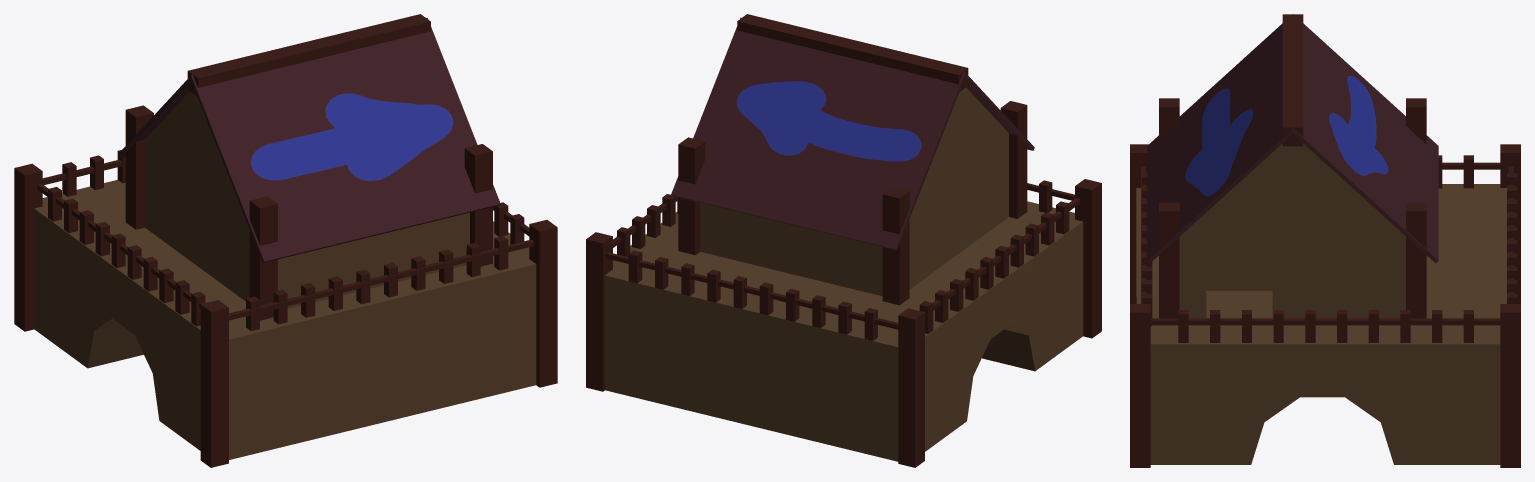
The model's file is Assembler_level_2.fbx.
The picture shows the model from 3 angles, left to right: view 1: azimuth 30°, elevation 25°; view 2: azimuth 150°, elevation 25°; view 3: azimuth 270°, elevation 25°; orthographic projection. The views are drawn at different scales.
Visible parts, largest first — view 1: Cube.006, Plane.001, Cube, Cube.005, Cube.008, Cube.007, Cube.010, Cube.004, Cube.002, Cube.054, Cube.003, Plane.002 (+1 smaller); view 2: Cube.006, Plane.002, Cube, Cube.005, Cube.010, Cube.008, Cube.009, Cube.002, Cube.001, Cube.004, Cube.053, Plane.001 (+1 smaller); view 3: Cube.006, Cube, Plane.002, Plane.001, Cube.007, Cube.009, Cube.005, Cube.003, Cube.001, Cube.051, Cube.008, Cube.010 (+2 smaller).
Boxes of the visible parts, <box> form: Cube.006: <box>34,180,536,459</box>; Plane.001: <box>190,18,500,262</box>; Cube: <box>145,91,469,308</box>; Cube.005: <box>187,14,430,95</box>; Cube.008: <box>200,300,228,467</box>; Cube.007: <box>529,220,557,387</box>; Cube.010: <box>14,163,42,331</box>; Cube.004: <box>249,196,277,320</box>; Cube.002: <box>125,105,153,229</box>; Cube.054: <box>229,239,533,320</box>; Cube.003: <box>464,144,492,266</box>; Plane.002: <box>118,17,427,157</box>; Cube.006: <box>604,201,1083,461</box>; Plane.002: <box>671,17,966,250</box>; Cube: <box>700,87,1008,296</box>; Cube.005: <box>737,14,968,91</box>; Cube.010: <box>898,308,924,467</box>; Cube.008: <box>1075,179,1101,338</box>; Cube.009: <box>586,232,612,391</box>; Cube.002: <box>882,187,909,305</box>; Cube.001: <box>678,137,705,255</box>; Cube.004: <box>1000,101,1027,218</box>; Cube.053: <box>606,252,898,329</box>; Plane.001: <box>964,73,1034,150</box>; Cube.006: <box>1136,184,1506,464</box>; Cube: <box>1179,143,1405,318</box>; Plane.002: <box>1290,23,1438,263</box>; Plane.001: <box>1147,23,1295,262</box>; Cube.007: <box>1130,304,1150,467</box>; Cube.009: <box>1500,304,1520,467</box>; Cube.005: <box>1282,14,1303,146</box>; Cube.003: <box>1159,202,1179,318</box>; Cube.001: <box>1406,202,1426,318</box>; Cube.051: <box>1150,318,1500,325</box>; Cube.008: <box>1130,144,1148,303</box>; Cube.010: <box>1500,144,1520,303</box>.
Size of the model in its own units: 628 by 551 by 617.
3 materials, 1 textured.
